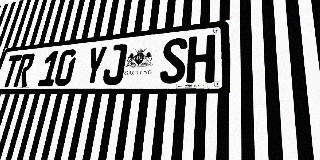0: (53, 49, 78, 86)
1: (37, 50, 61, 86)
H: (186, 34, 216, 83)
J: (101, 43, 128, 85)
R: (13, 53, 36, 87)
S: (159, 37, 188, 84)
T: (0, 54, 22, 87)
Y: (82, 46, 108, 85)
